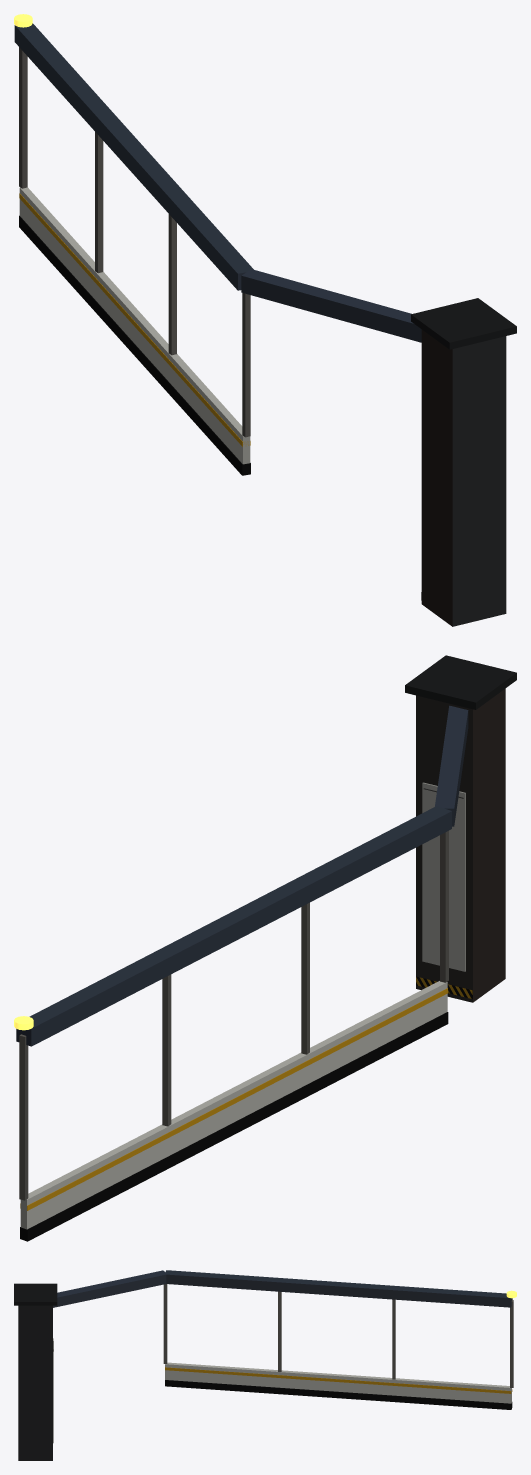
Rendered from sweep_arm.glb.
The picture shows the model from 3 angles, top to bottom: view 1: azimuth 30°, elevation 25°; view 2: azimuth 150°, elevation 25°; view 3: azimuth 270°, elevation 25°; orthographic projection. The views are drawn at different scales.
Visible parts, largest first — view 1: Frame; view 2: Frame; view 3: Frame.
Part boxes in pixels (x1,y1,x2,y2): Frame: (14,14,516,626); Frame: (14,655,516,1241); Frame: (14,1270,516,1460).
Bounding box in the file's own units: 2.12 × 4.1 × 11.62.
